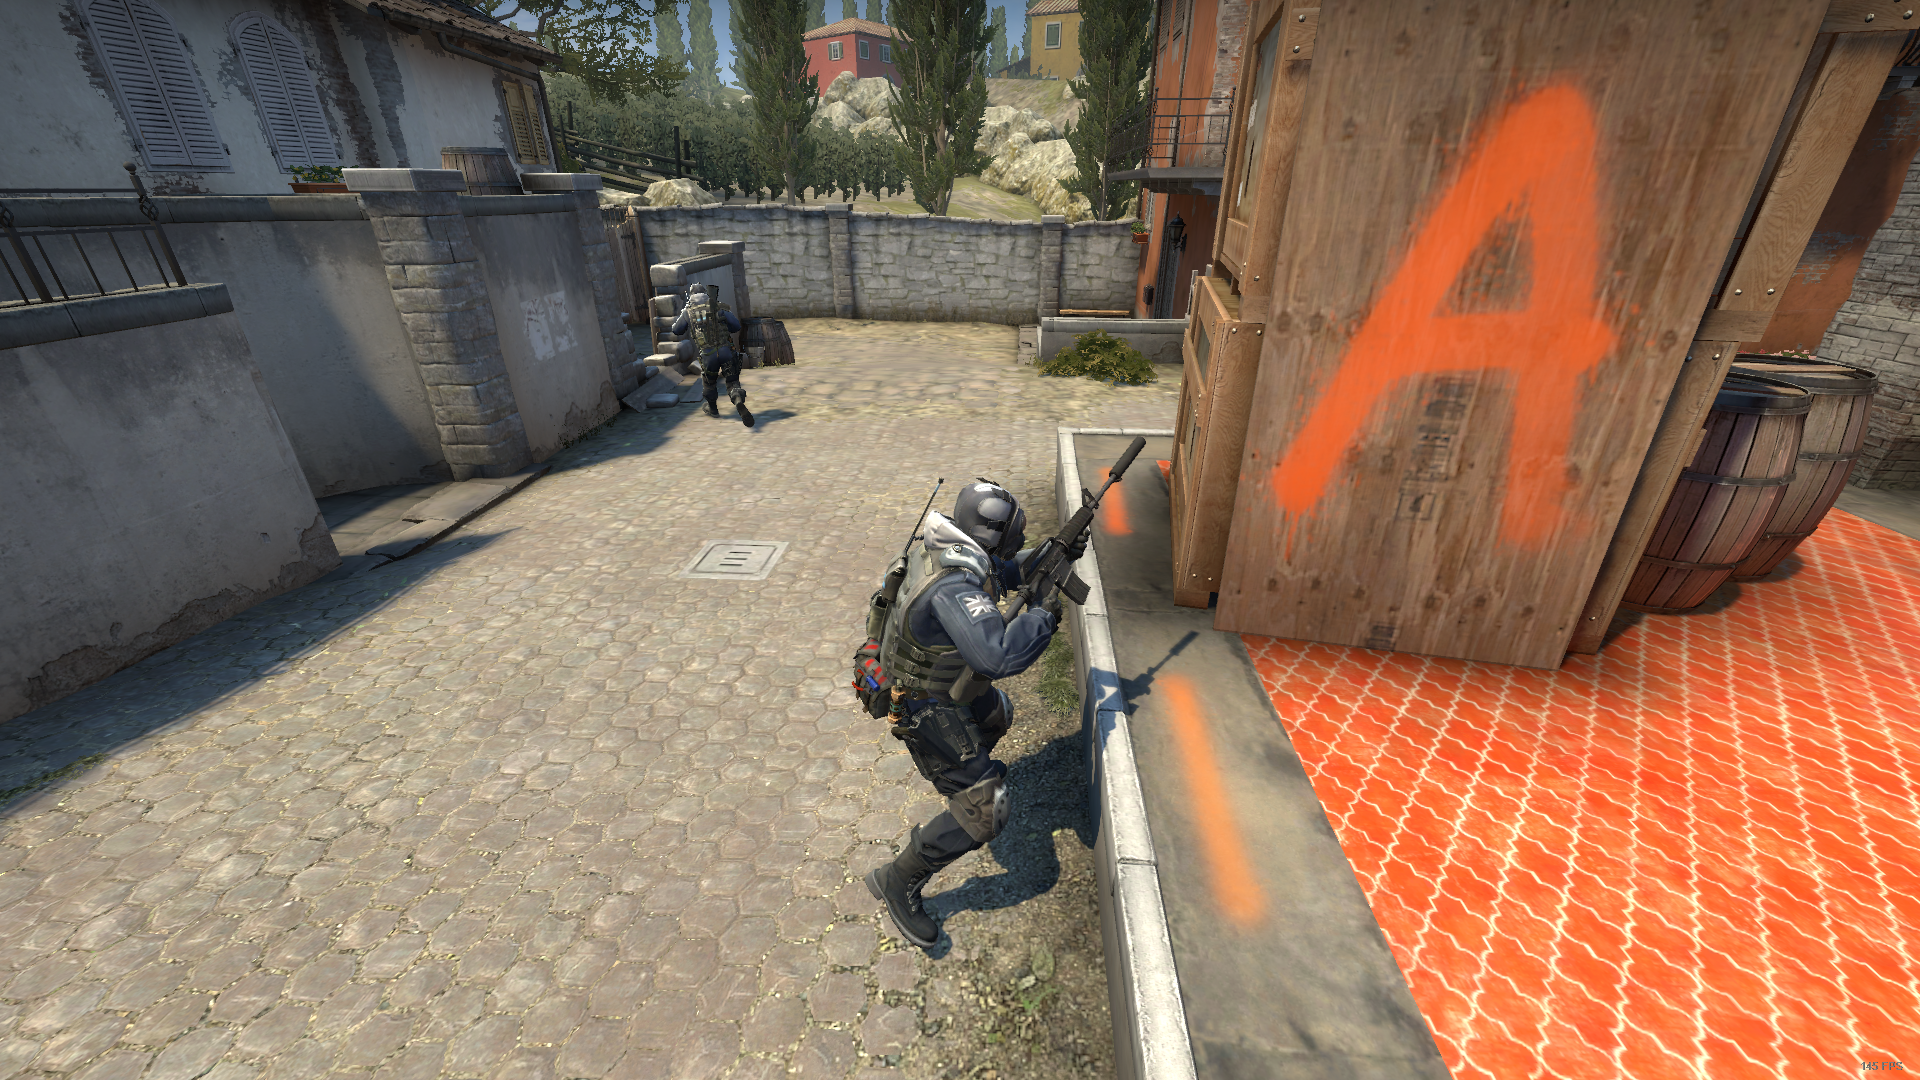ct: (855, 477, 1068, 947), (670, 281, 761, 429)
